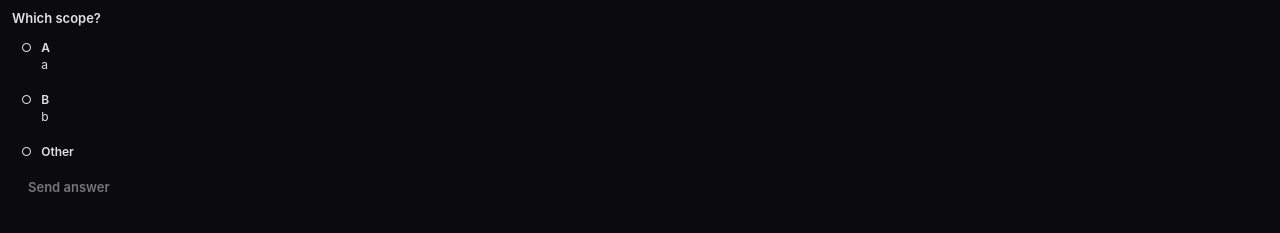
QuestionCard › says the terminal moved on after a 409 that is not partial
The width and height of the screenshot is (1280, 233).
Expected: the text "Which scope?" is shown, [12, 10, 101, 26]
Click the radio button labelled "○ A a".
click(27, 48)  # box [12, 32, 1268, 80]
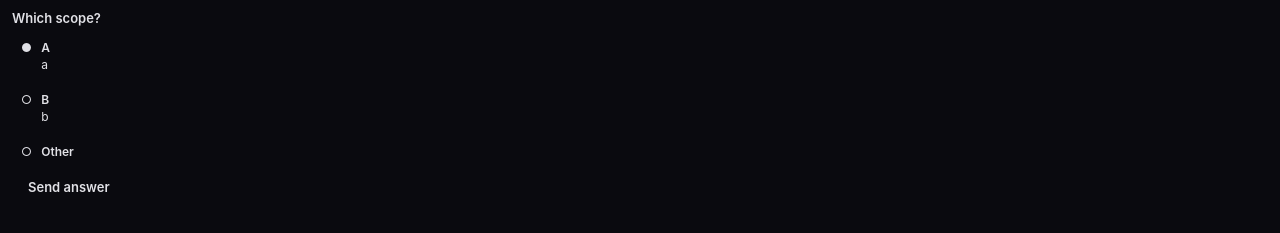
Click the button "Send answer".
click(69, 187)  # box [12, 179, 126, 195]
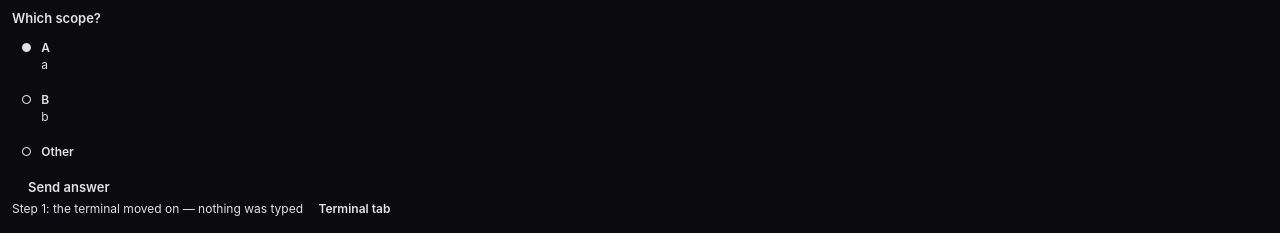
Now the text "Step 1: the terminal moved on — nothing was typed" is shown, box [12, 201, 303, 216]
Now the link "Terminal tab" is shown, box [318, 201, 390, 216]
